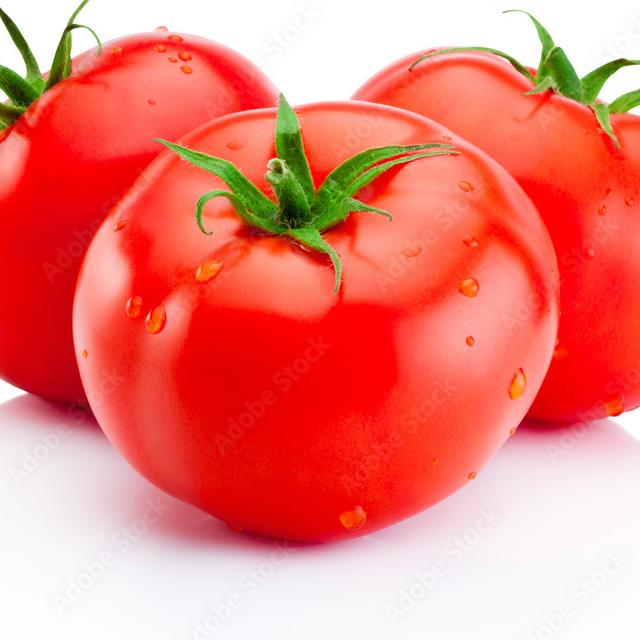tomato: (70, 98, 562, 548), (0, 31, 303, 410), (343, 41, 640, 425)
